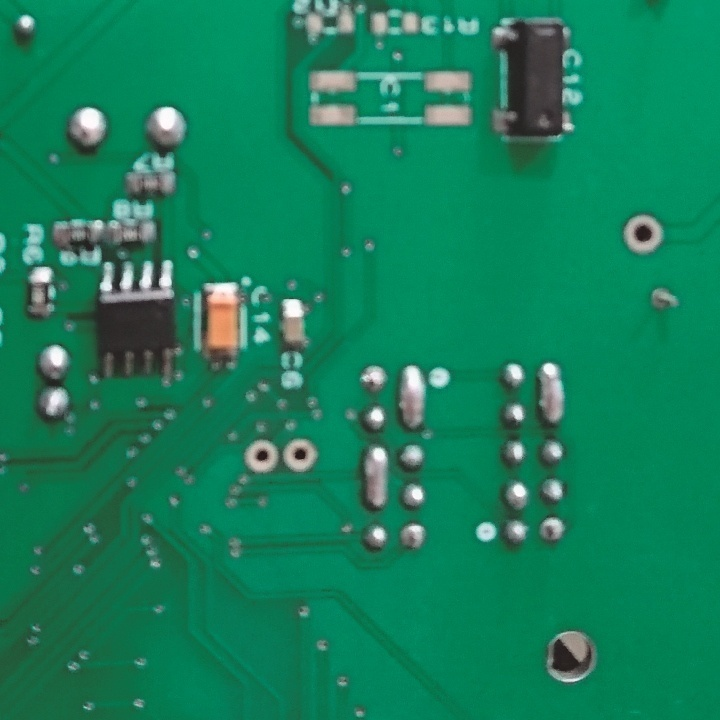F: (621, 212, 664, 256), (280, 438, 321, 475), (243, 438, 280, 475), (399, 520, 429, 551), (360, 362, 388, 395), (649, 283, 679, 311), (539, 514, 568, 540)
P: (536, 362, 570, 426), (397, 363, 424, 429), (361, 444, 389, 507)
